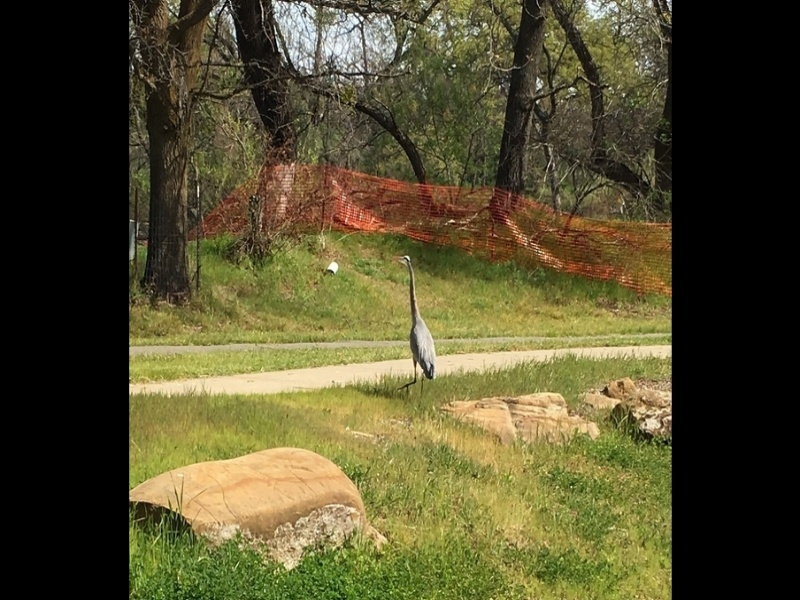heron: (390, 249, 440, 406)
